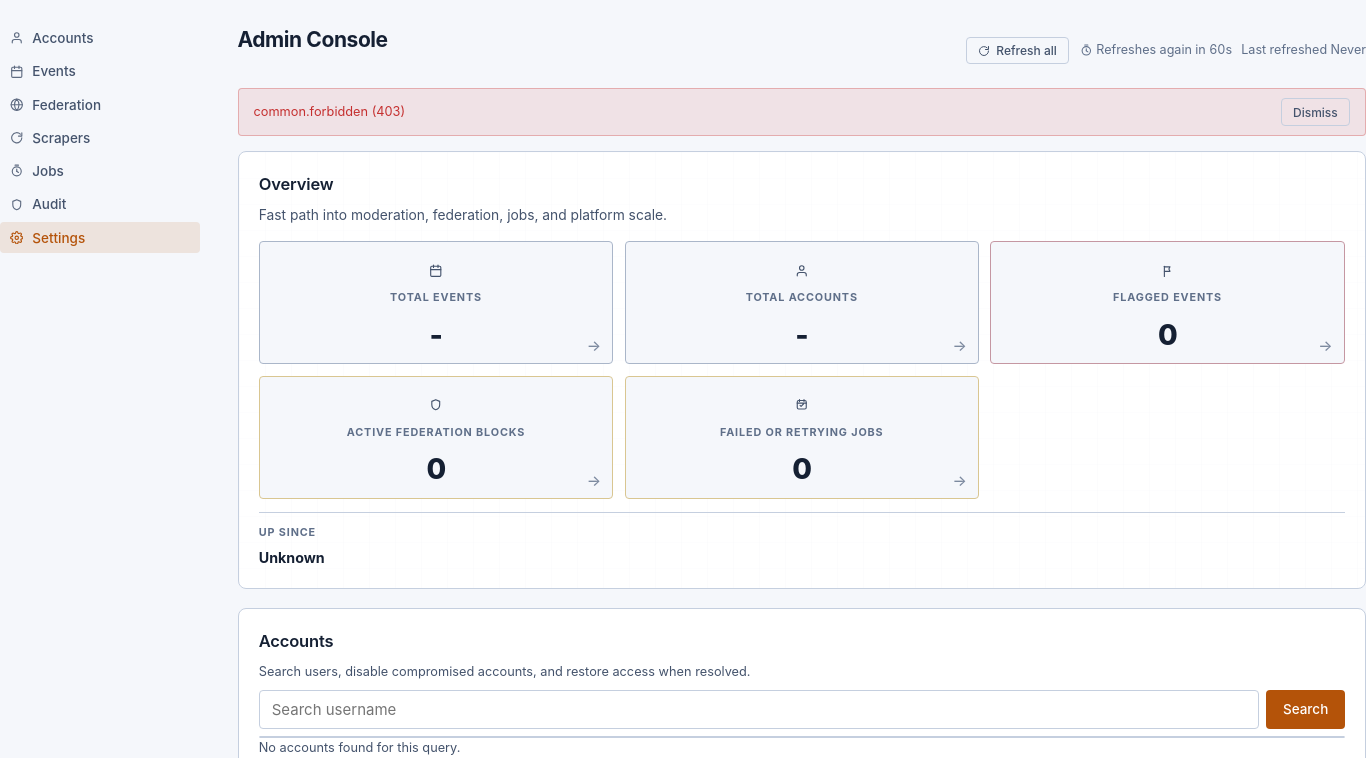
Test: AdminPage admin fetch errors › dismisses the error banner while keeping the admin console visible
Expected: the message "common.forbidden (403) Dismiss" is shown, [238,88,1365,136]
Expected: the heading "Admin Console" is shown, [238,22,388,56]
Click the button with aria-label "Dismiss error" at (1315, 112), box [1281,98,1350,126]
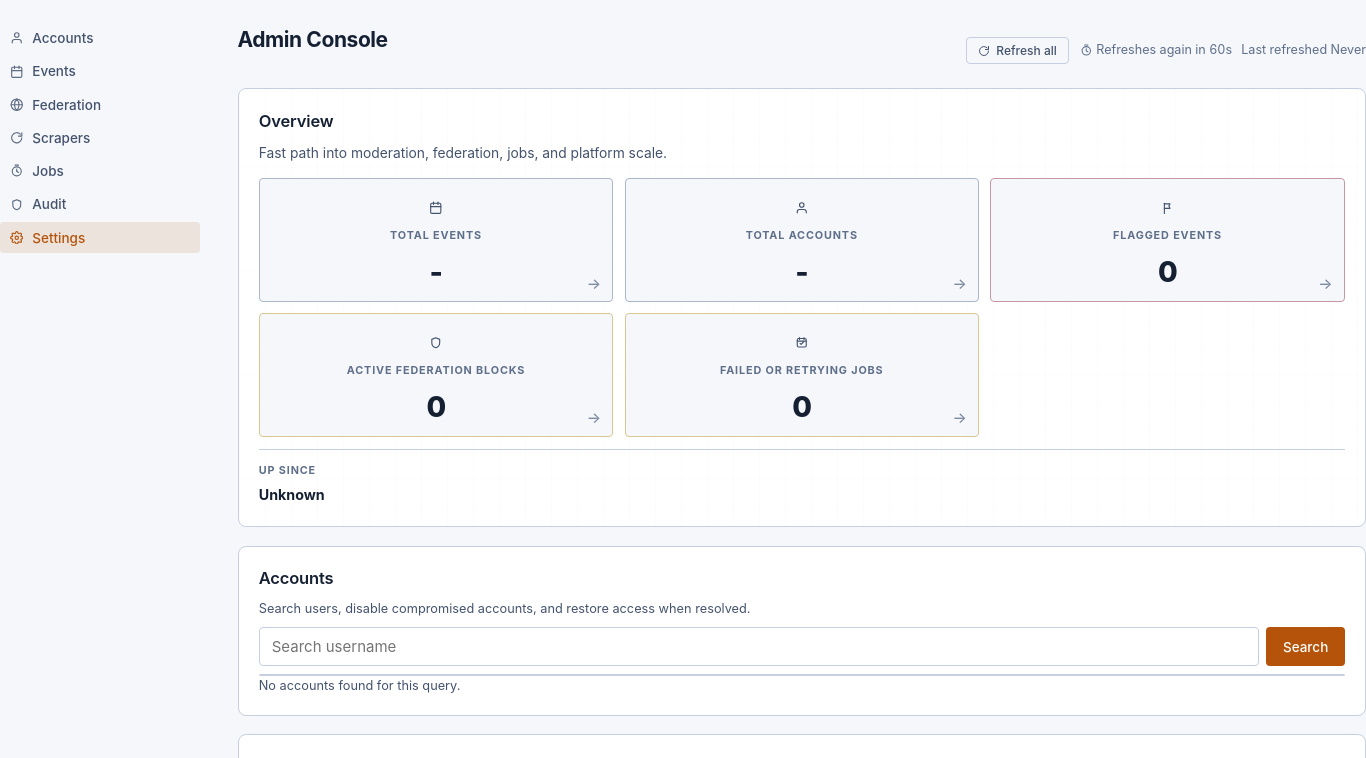
Expected: the heading "Admin Console" is shown, [238,22,388,56]
Now the message "common.forbidden (403) Dismiss" is gone
